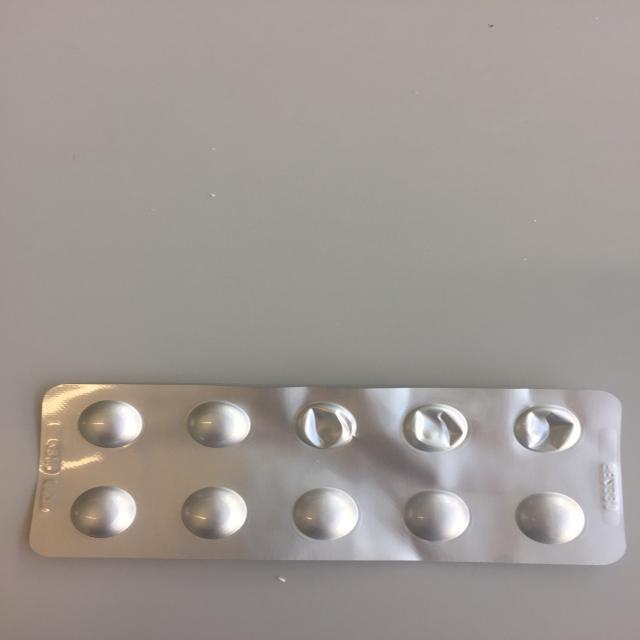Empty: (506, 400, 583, 455), (397, 401, 474, 455), (291, 399, 361, 453)
Pill: (175, 482, 255, 542), (510, 489, 590, 547), (286, 485, 366, 543), (62, 482, 142, 540), (398, 488, 477, 544), (181, 398, 255, 454), (75, 396, 148, 452)
